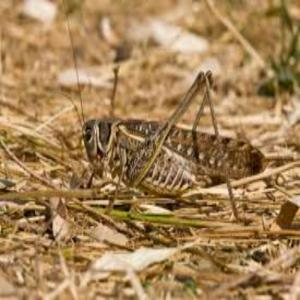locust: (81, 74, 276, 204)
